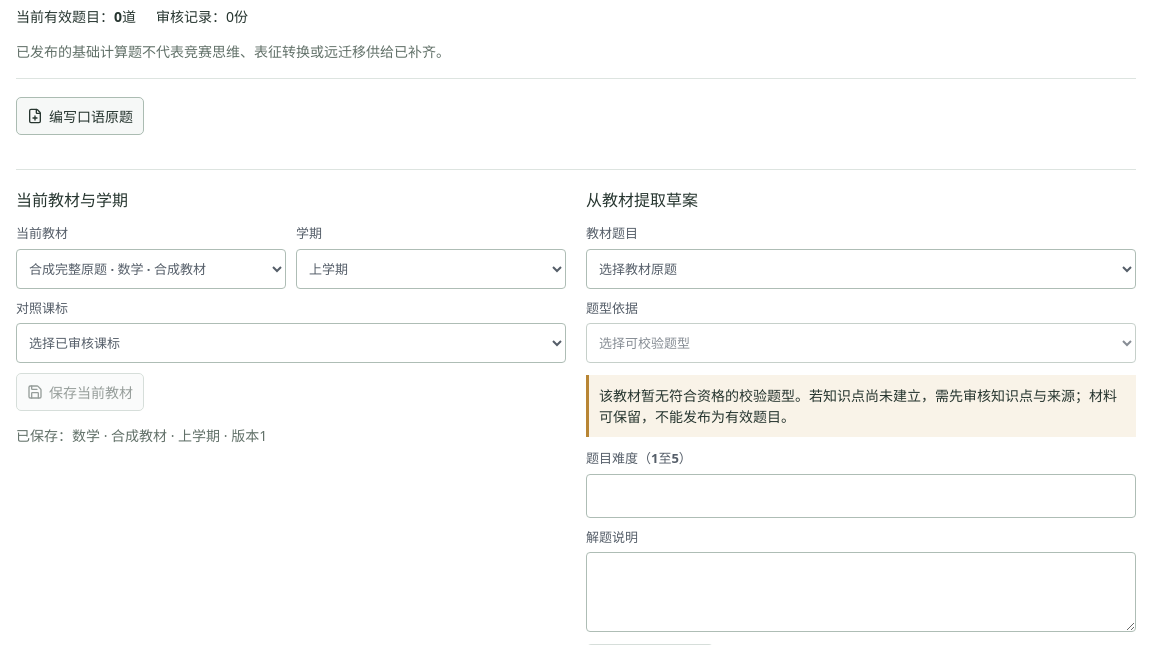
shows the reviewed ordered numeric rule next to the original answer before approval
This screenshot has width=1152, height=645.
Select "已审核合成课标 · 求根公式 · 第四学段 · 第12页" in the dropdown labelled "对照课标" at (291, 343), box top-left (16, 323), bottom-right (566, 363)
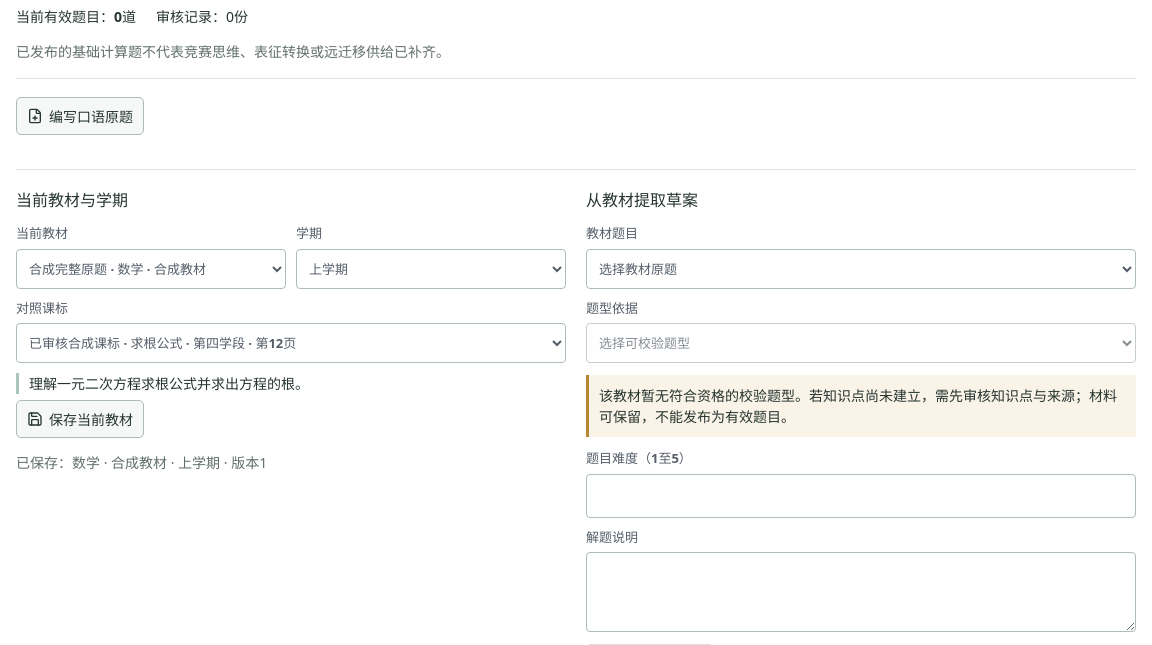
Select "用求根公式解 x²-5x+6=0，写出两个根。" in the dropdown labelled "教材题目" at (861, 268), box top-left (586, 248), bottom-right (1136, 288)
(page scrolled)
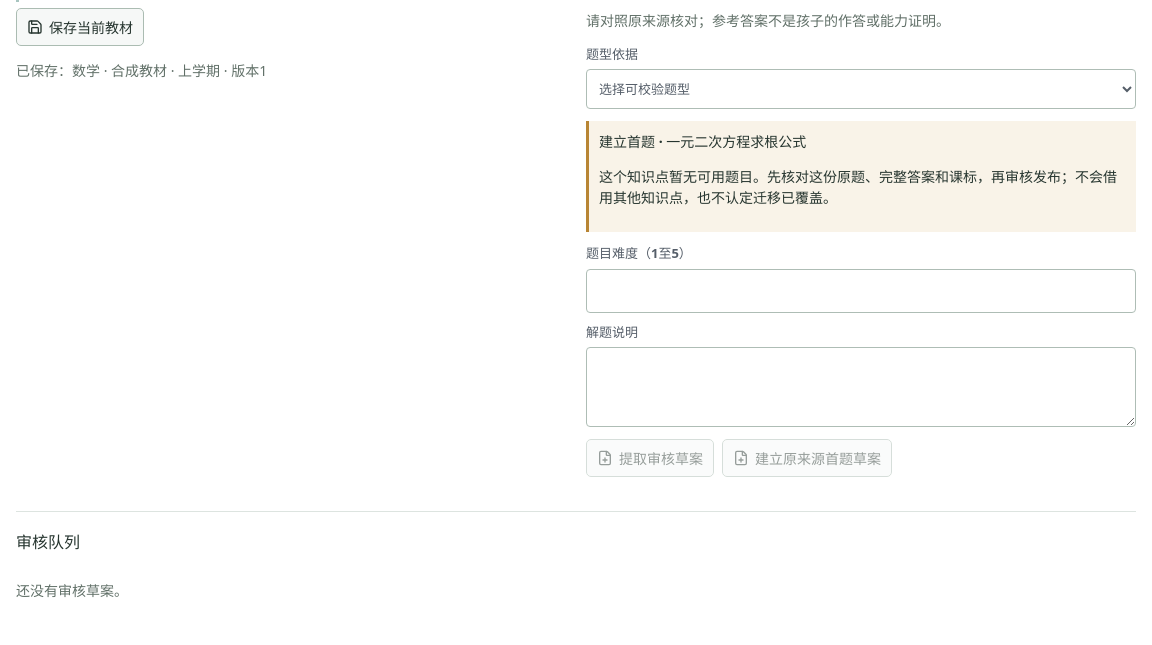
Type "1" into the number field labelled "题目难度（1至5）" at (861, 290), box top-left (586, 268), bottom-right (1136, 312)
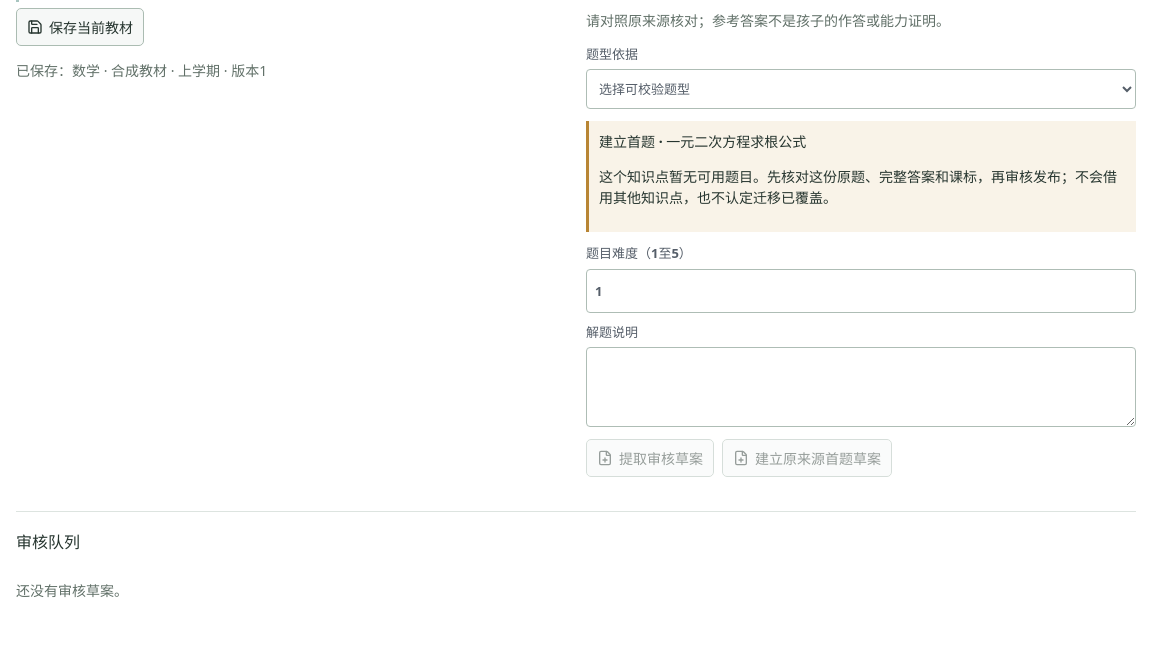
Type "由原材料完整核对求根公式及参考答案。" into the text box labelled "解题说明" at (861, 387), box top-left (586, 347), bottom-right (1136, 427)
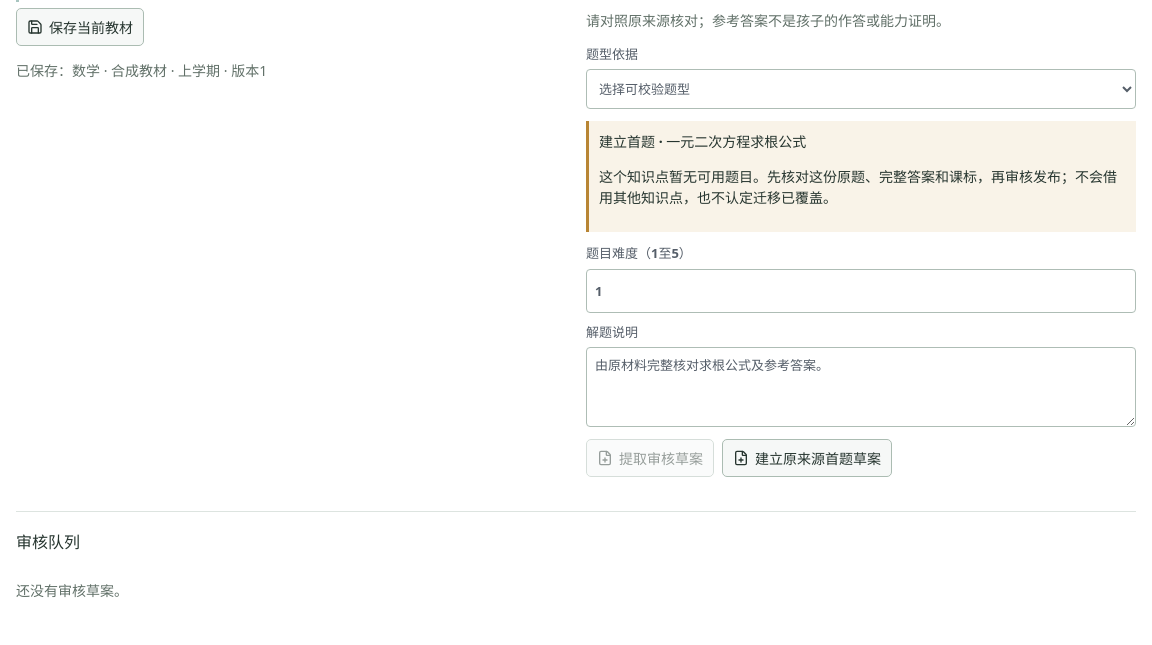
Click the button "建立原来源首题草案" at (807, 458), box top-left (722, 439), bottom-right (892, 477)
(page scrolled)
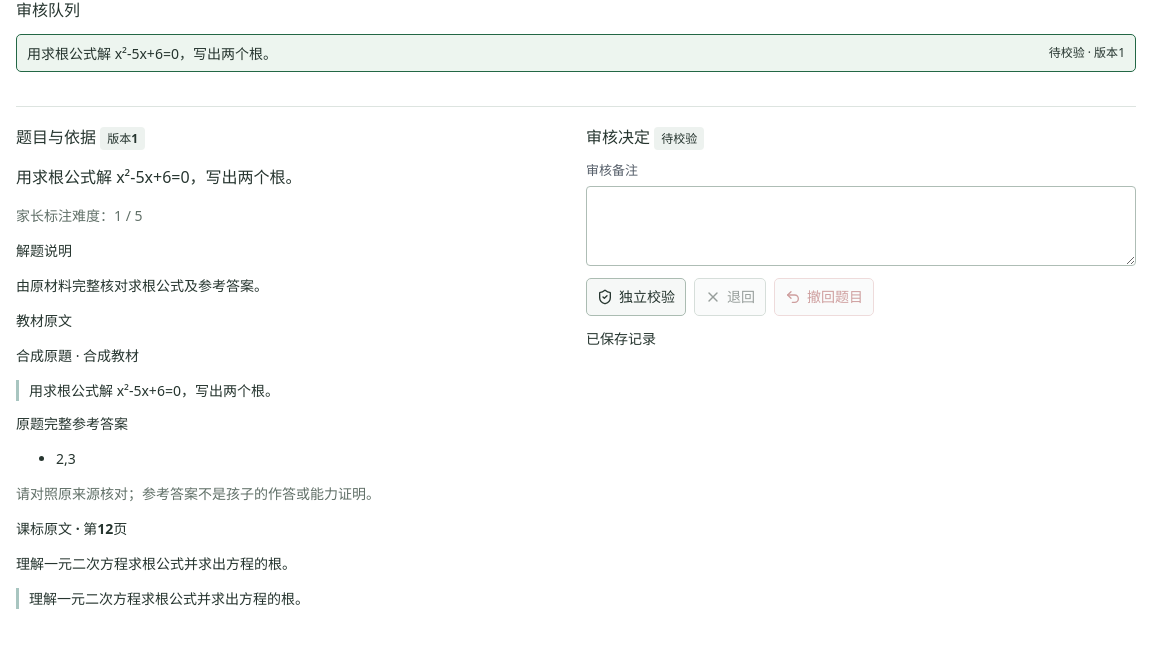
expect the text box labelled "审核备注" is shown: met, box top-left (586, 186), bottom-right (1136, 266)
Click the button "独立校验" at (636, 296), box top-left (586, 278), bottom-right (686, 316)
(page scrolled)
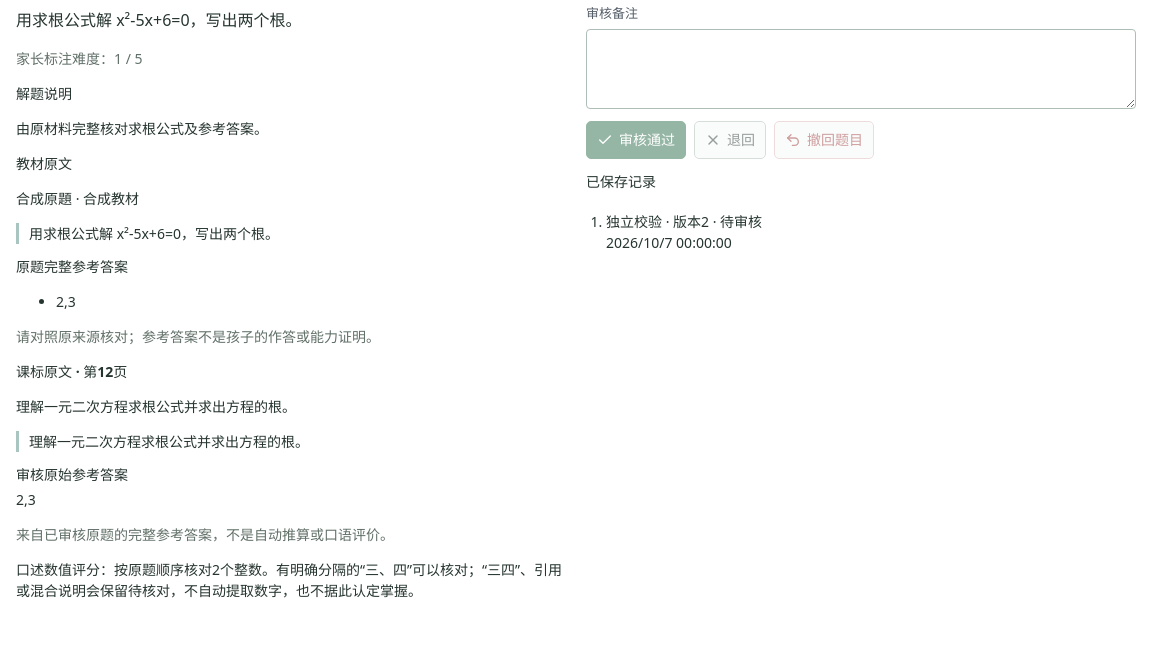
expect the text "口述数值评分：" is shown: met, box top-left (16, 560), bottom-right (114, 579)
expect the text "按原题顺序核对2个整数" is shown: met, box top-left (16, 559), bottom-right (566, 601)
expect the text "不自动提取数字" is shown: met, box top-left (16, 560), bottom-right (562, 600)
